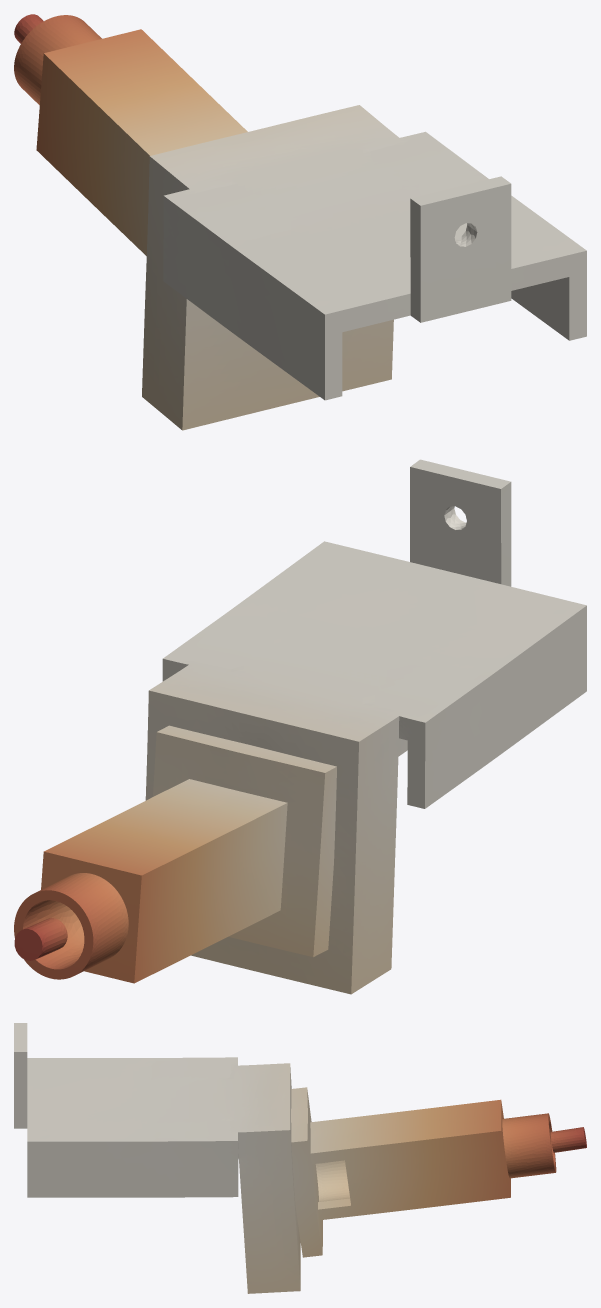
The model's file is z_flange_Fy_u.glb.
The picture shows the model from 3 angles, top to bottom: view 1: azimuth 30°, elevation 25°; view 2: azimuth 150°, elevation 25°; view 3: azimuth 270°, elevation 25°; orthographic projection. The views are drawn at different scales.
Visible parts, largest first — view 1: geometry_0; view 2: geometry_0; view 3: geometry_0.
Boxes of the visible parts, x1=… form: geometry_0: x1=14, y1=14, x2=586, y2=430; geometry_0: x1=14, y1=459, x2=586, y2=994; geometry_0: x1=14, y1=1023, x2=586, y2=1293.
Bounding box in the file's own units: 150 × 187 × 435.
